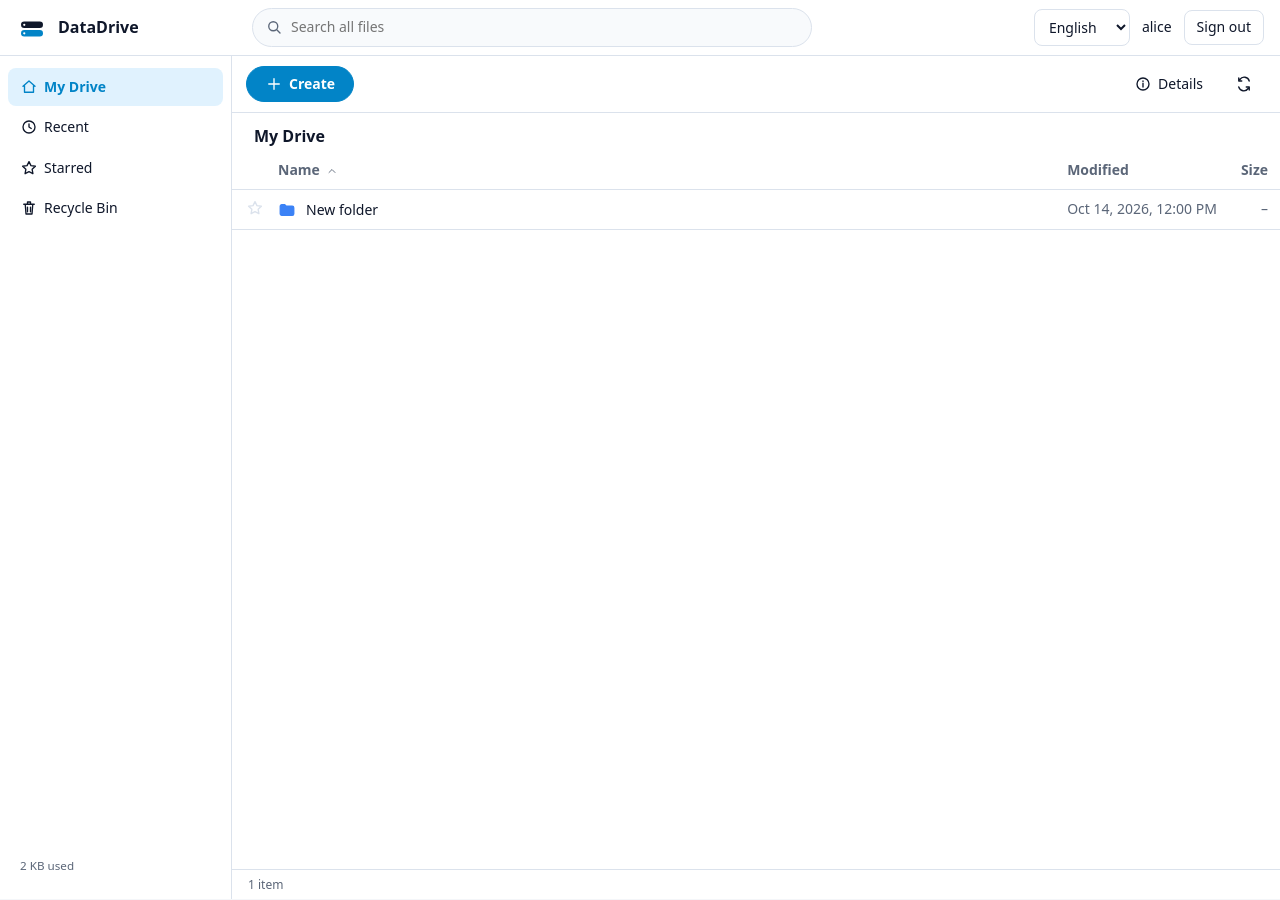
Test case: creating and renaming › creates a folder that is immediately in rename mode
Expected: the element named "Actions" is shown, [232,56,1279,113]
Step 1. Click the button "Create" → point(300, 84), box [246,66,354,102]
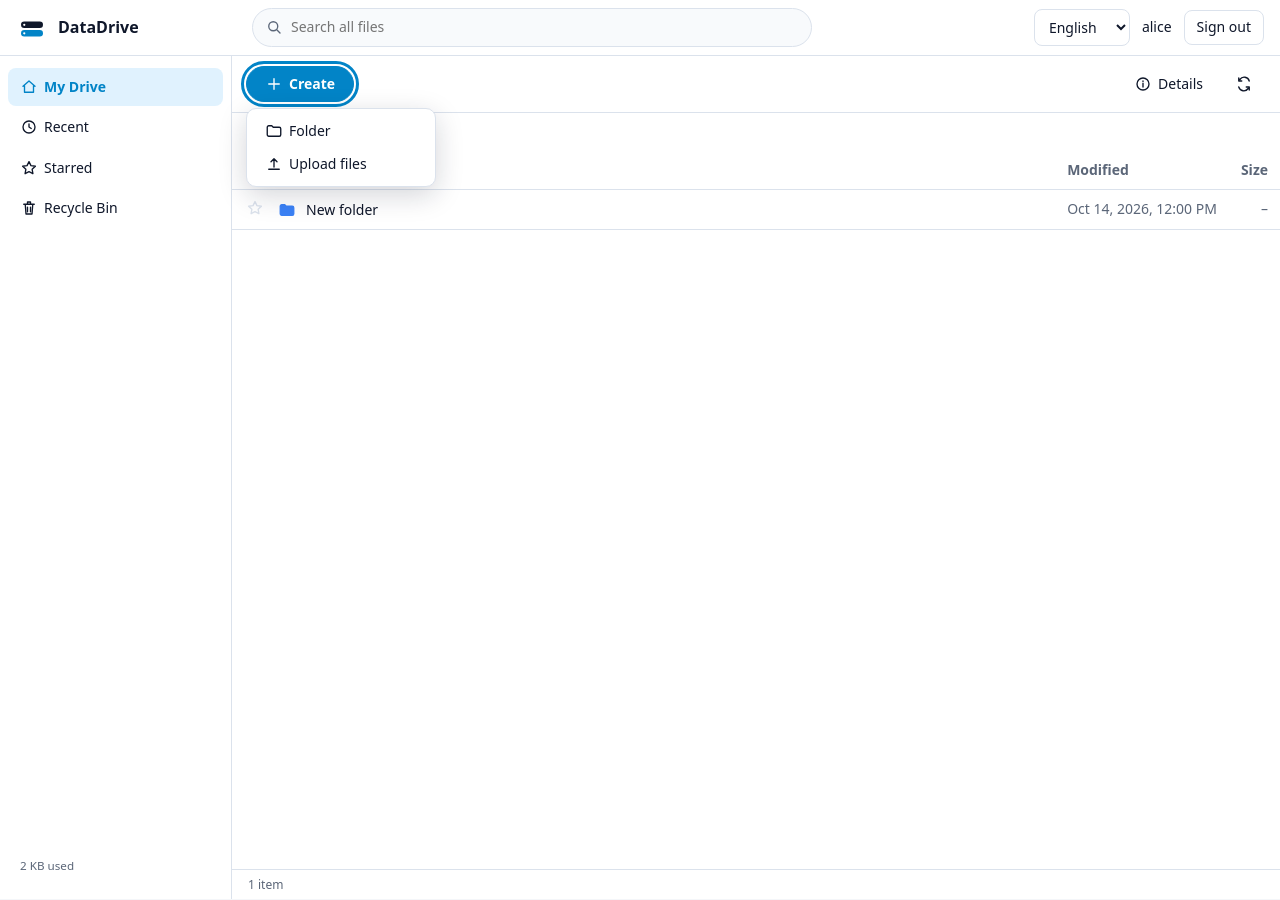
Step 2. Click the menu item "Folder" → point(341, 131), box [253,115,429,148]
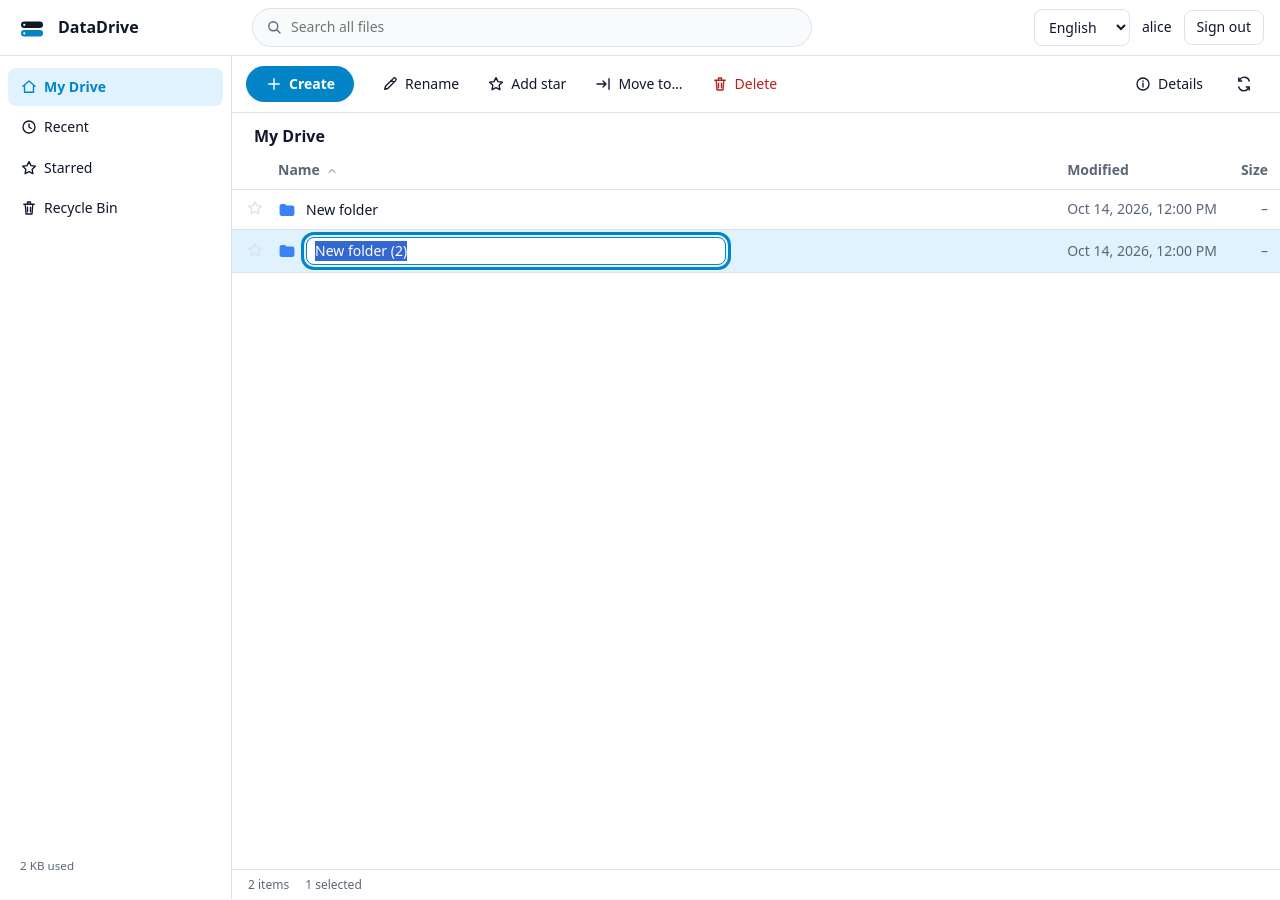
Expected: the field named "Rename" holds "New folder (2)", [306,237,726,265]
Step 3. Type keys "{Control>}a{/Control}Projekte{Enter}"
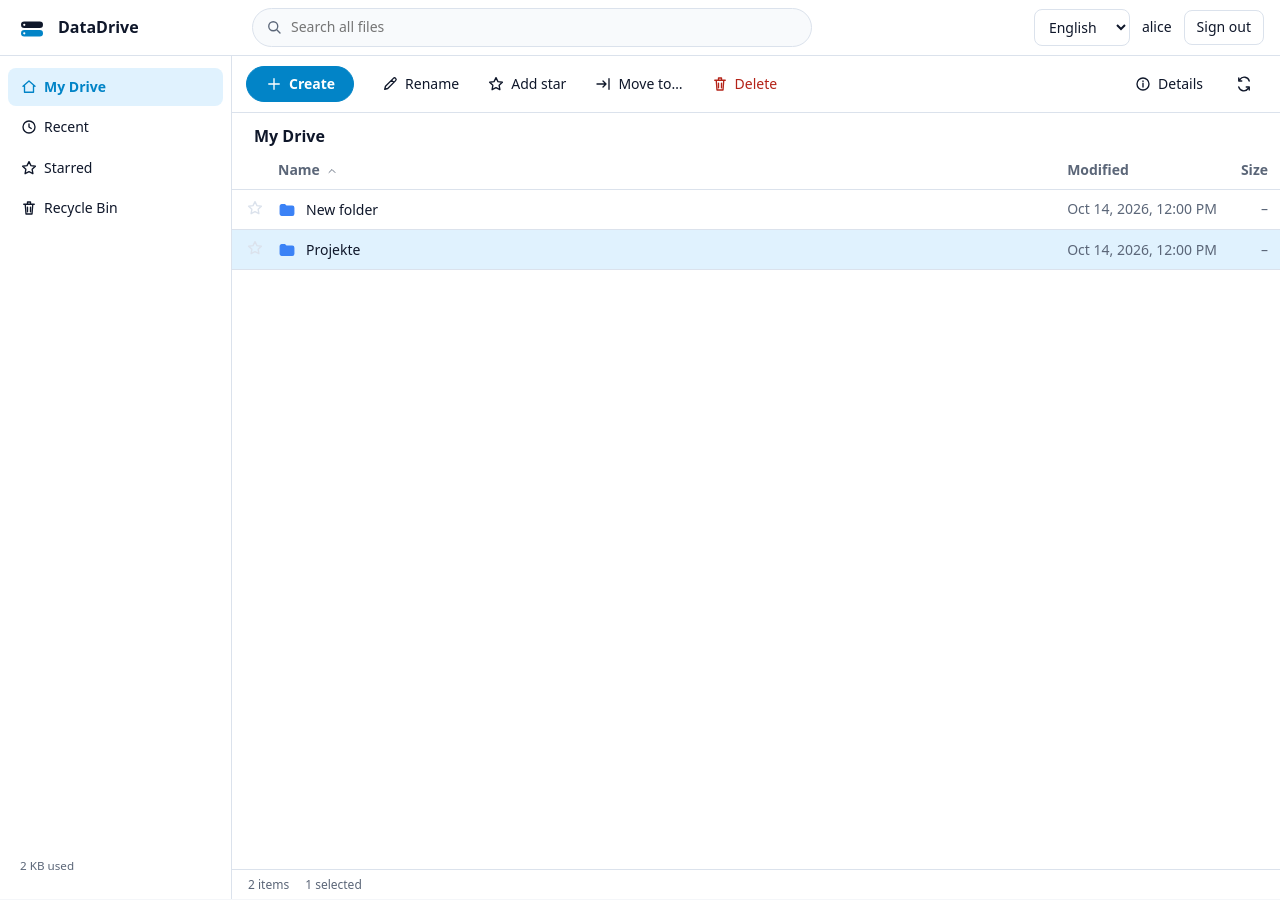
Expected: the row "Projekte Oct 14, 2026, 12:00 PM –" is shown, [232,230,1279,270]
